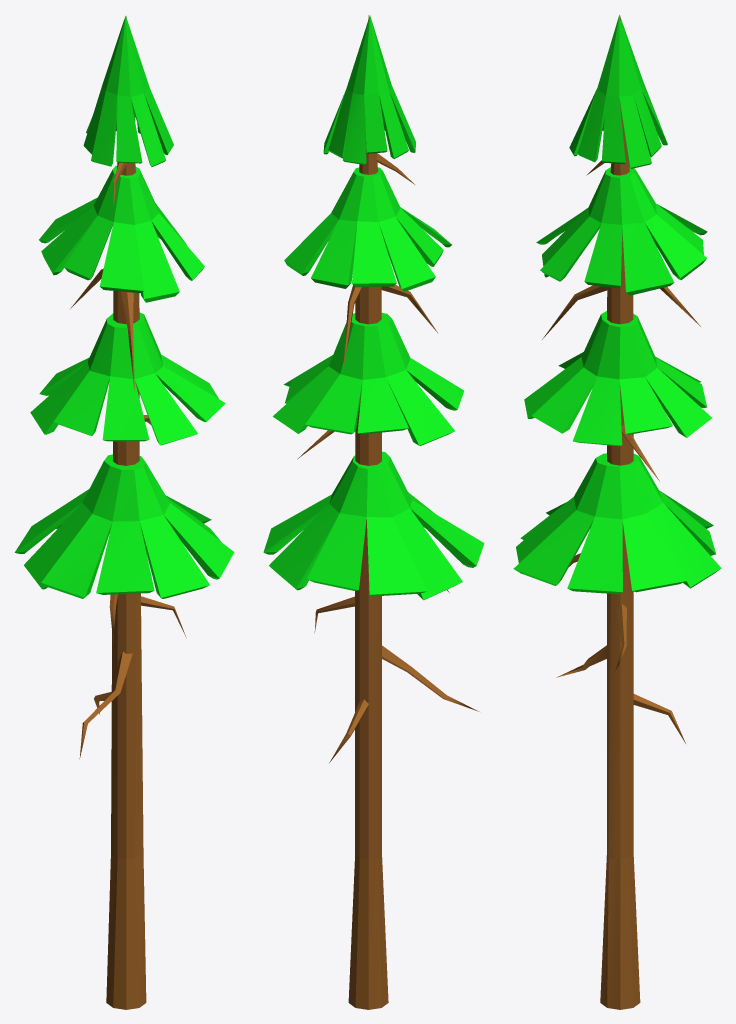
The model's file is tree_long_1.gltf.
3 renders of one model, left to right at view 1: azimuth 30°, elevation 25°; view 2: azimuth 150°, elevation 25°; view 3: azimuth 270°, elevation 25°, orthographic.
Parts seen in each view (by area): view 1: lowpolytrees.190; view 2: lowpolytrees.190; view 3: lowpolytrees.190.
Boxes of the visible parts, x1,y1,x2,y2 form: lowpolytrees.190: (14,16,234,1009); lowpolytrees.190: (263,15,484,1009); lowpolytrees.190: (513,14,721,1009).
Bounding box in the file's own units: 15.4 × 77.24 × 14.77.
